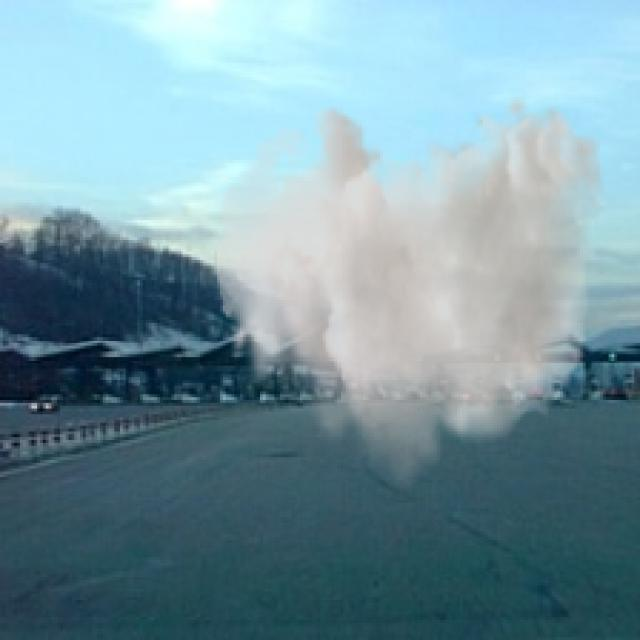smoke: (214, 94, 606, 494)
